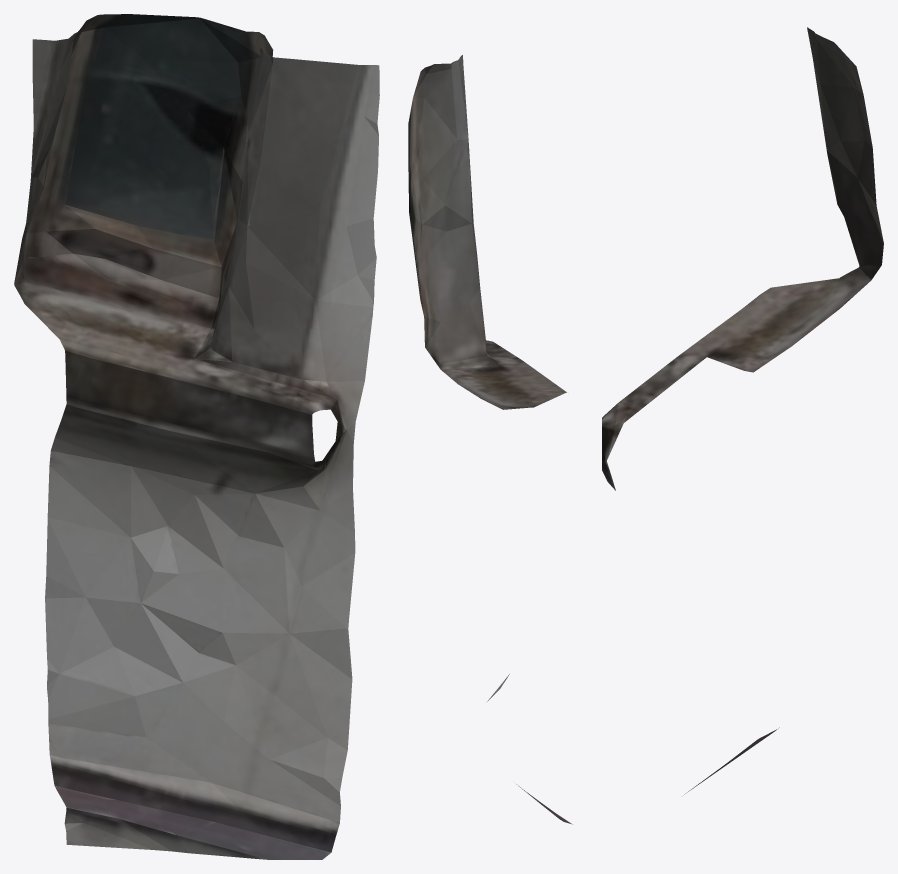
The picture shows the model from 3 angles, left to right: view 1: azimuth 30°, elevation 25°; view 2: azimuth 150°, elevation 25°; view 3: azimuth 270°, elevation 25°; orthographic projection. The views are drawn at different scales.
Size of the model in its own units: 0.5249 by 1.67 by 0.5617.
Materials: 1 (1 with a texture image).
